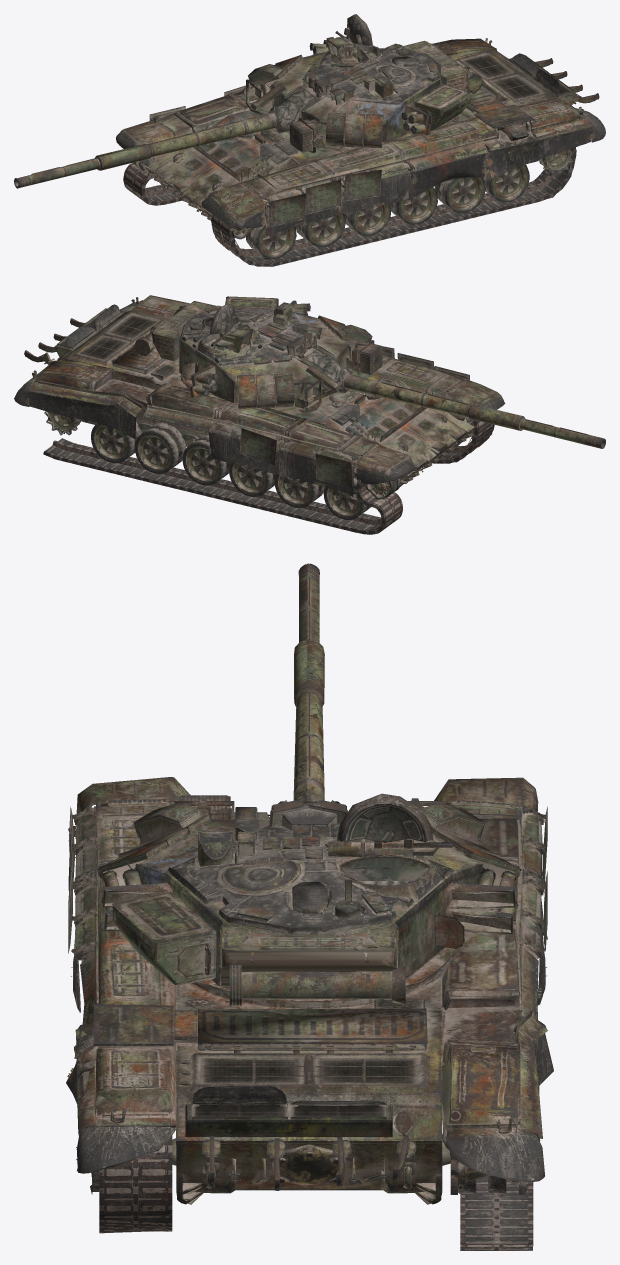
The model's file is wreck_t80.glb.
The picture shows the model from 3 angles, top to bottom: view 1: azimuth 30°, elevation 25°; view 2: azimuth 150°, elevation 25°; view 3: azimuth 270°, elevation 25°; orthographic projection. The views are drawn at different scales.
Parts seen in each view (by area): view 1: mesh_1_Material #29_0, mesh_0.001_Material #31_0, mesh_0_Material #28_0, mesh_0.002_Material #27_0, mesh_2.001_Material #27_0, mesh_2_Material #27_0, mesh_0.003_Material #27_0; view 2: mesh_1_Material #29_0, mesh_0_Material #28_0, mesh_0.001_Material #31_0, mesh_0.002_Material #27_0, mesh_0.003_Material #27_0, mesh_2.001_Material #27_0, mesh_2_Material #27_0; view 3: mesh_0_Material #28_0, mesh_0.001_Material #31_0, mesh_1_Material #29_0, mesh_2_Material #27_0, mesh_0.002_Material #27_0, mesh_2.001_Material #27_0, mesh_0.003_Material #27_0.
Boxes of the visible parts, <box> form: mesh_1_Material #29_0: <box>116,51,605,236</box>; mesh_0.001_Material #31_0: <box>243,14,483,152</box>; mesh_0_Material #28_0: <box>145,38,599,227</box>; mesh_0.002_Material #27_0: <box>133,137,576,266</box>; mesh_2.001_Material #27_0: <box>14,89,314,188</box>; mesh_2_Material #27_0: <box>461,54,571,100</box>; mesh_0.003_Material #27_0: <box>123,162,181,205</box>; mesh_1_Material #29_0: <box>14,301,505,497</box>; mesh_0_Material #28_0: <box>24,295,474,489</box>; mesh_0.001_Material #31_0: <box>134,296,382,413</box>; mesh_0.002_Material #27_0: <box>44,397,494,520</box>; mesh_0.003_Material #27_0: <box>43,438,402,534</box>; mesh_2.001_Material #27_0: <box>305,350,605,448</box>; mesh_2_Material #27_0: <box>59,311,279,465</box>; mesh_0_Material #28_0: <box>67,802,547,1204</box>; mesh_0.001_Material #31_0: <box>97,793,521,1006</box>; mesh_1_Material #29_0: <box>66,777,553,1195</box>; mesh_2_Material #27_0: <box>172,983,450,1165</box>; mesh_0.002_Material #27_0: <box>90,1136,526,1233</box>; mesh_2.001_Material #27_0: <box>293,563,324,803</box>; mesh_0.003_Material #27_0: <box>460,1017,533,1250</box>.
Bounding box in the file's own units: 9.5 × 2.6 × 3.6.
4 materials, 4 textured.
